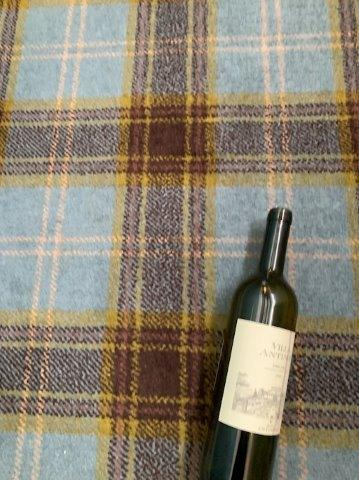botolkaca: (204, 208, 300, 480)
